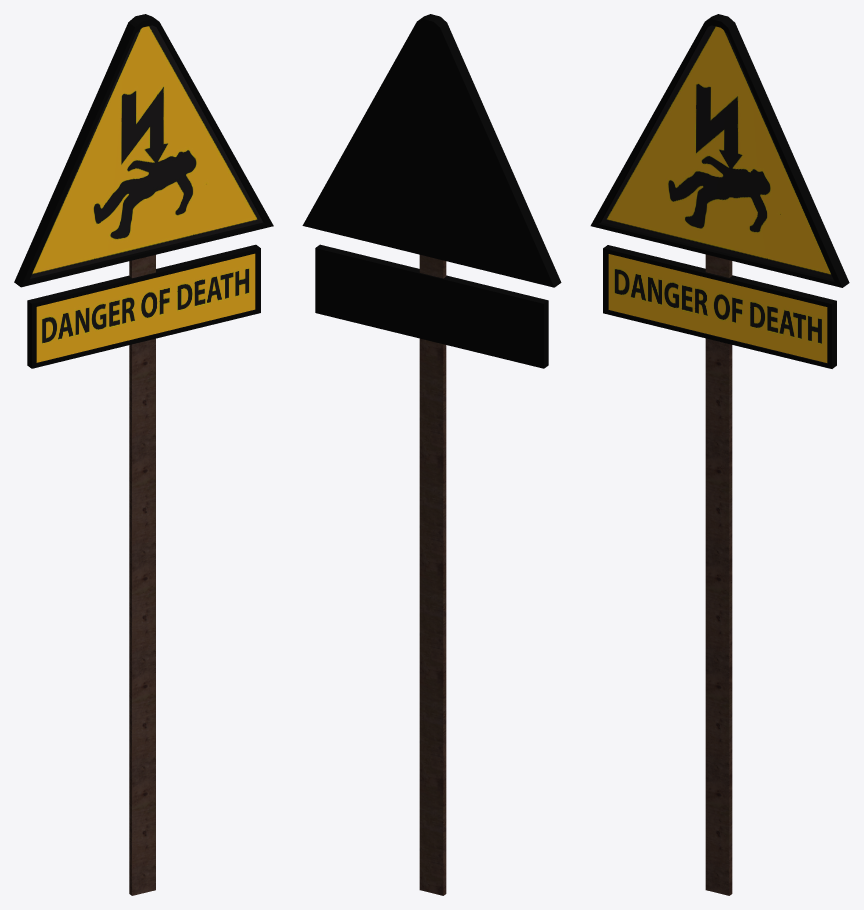
The model's file is fbxSignal.fbx.
3 views of the same model, side by side, from view 1: azimuth 30°, elevation 25°; view 2: azimuth 150°, elevation 25°; view 3: azimuth 330°, elevation 25° (orthographic).
Visible parts, largest first — view 1: signal1; view 2: signal1; view 3: signal1.
Part boxes in pixels (x1,y1,x2,y2): signal1: [14, 14, 273, 895]; signal1: [302, 14, 561, 895]; signal1: [590, 14, 849, 895].
Bounding box in the file's own units: 1.41 × 4.66 × 0.0716.
3 materials, 2 textured.
